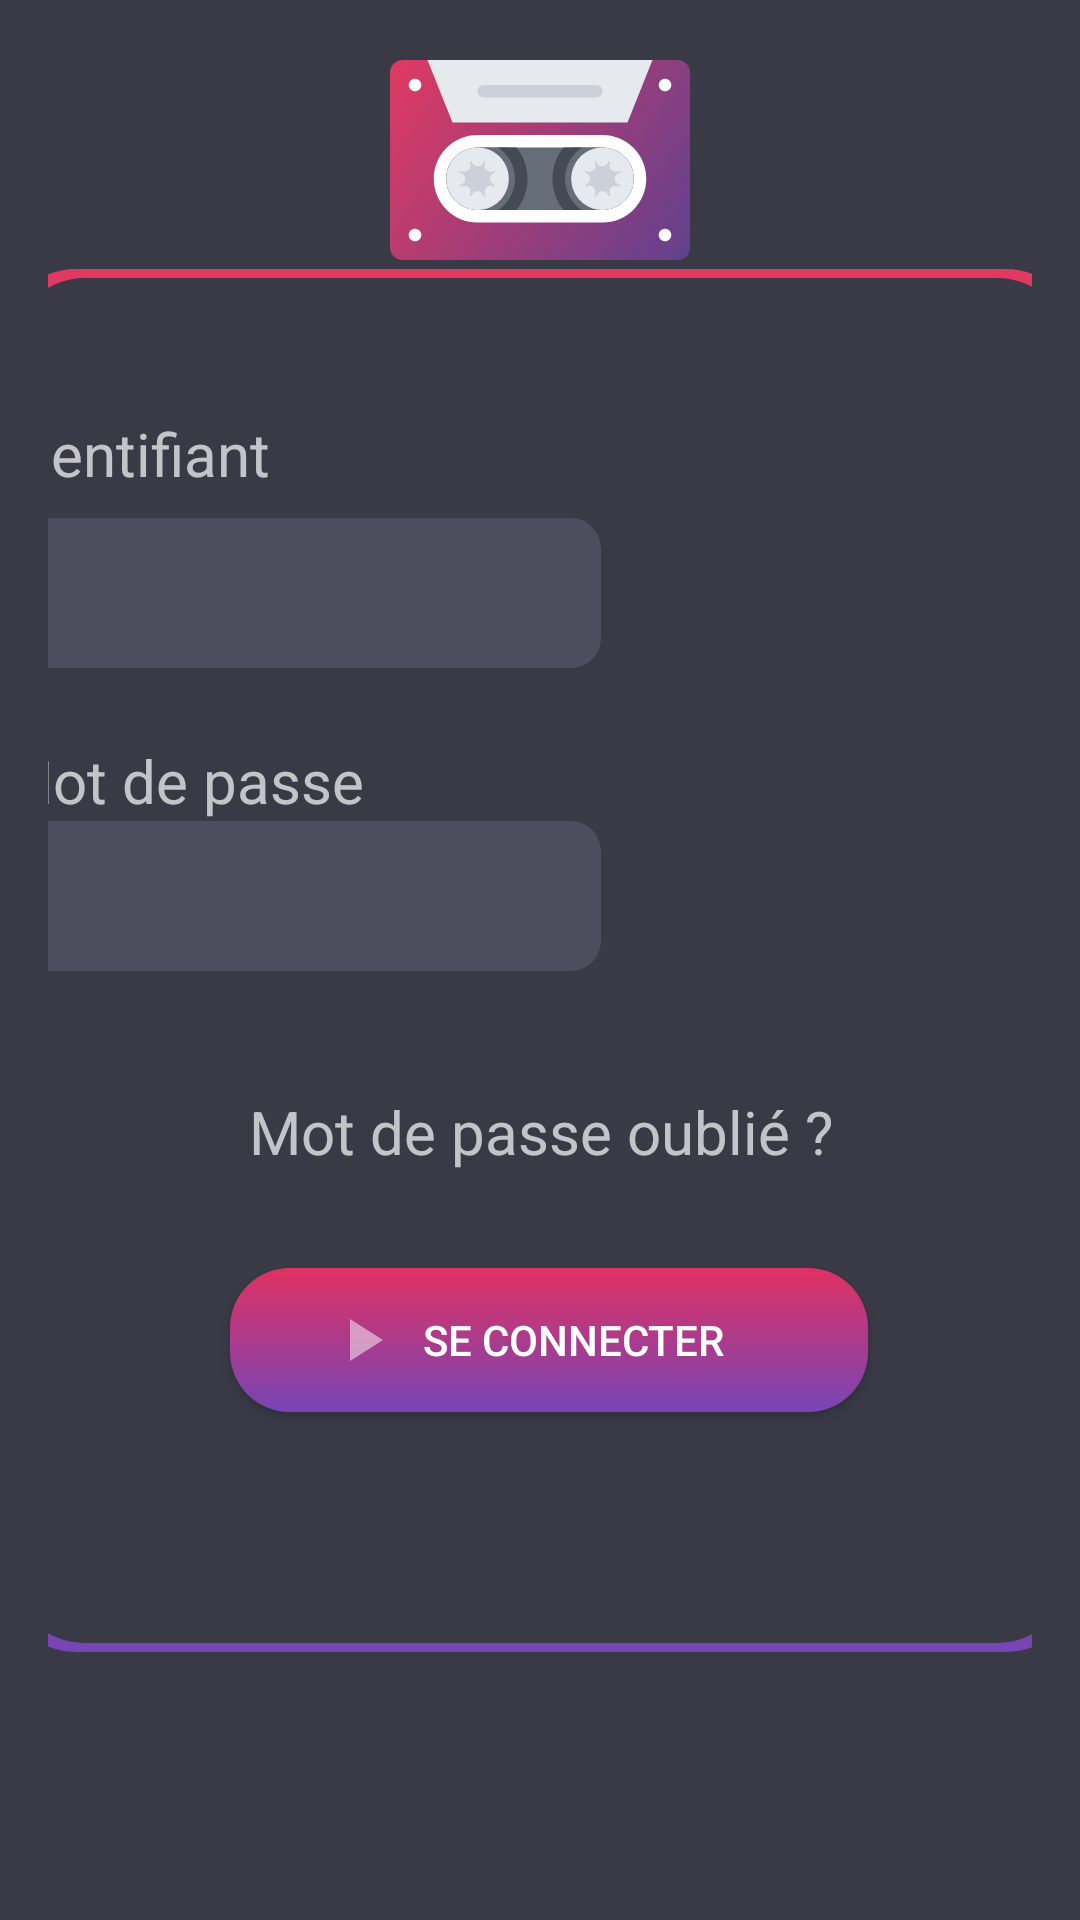

Screen size 1080 × 1920. Icon name, then its center in pixels as (x,y):
cassette tape: (540,160)
